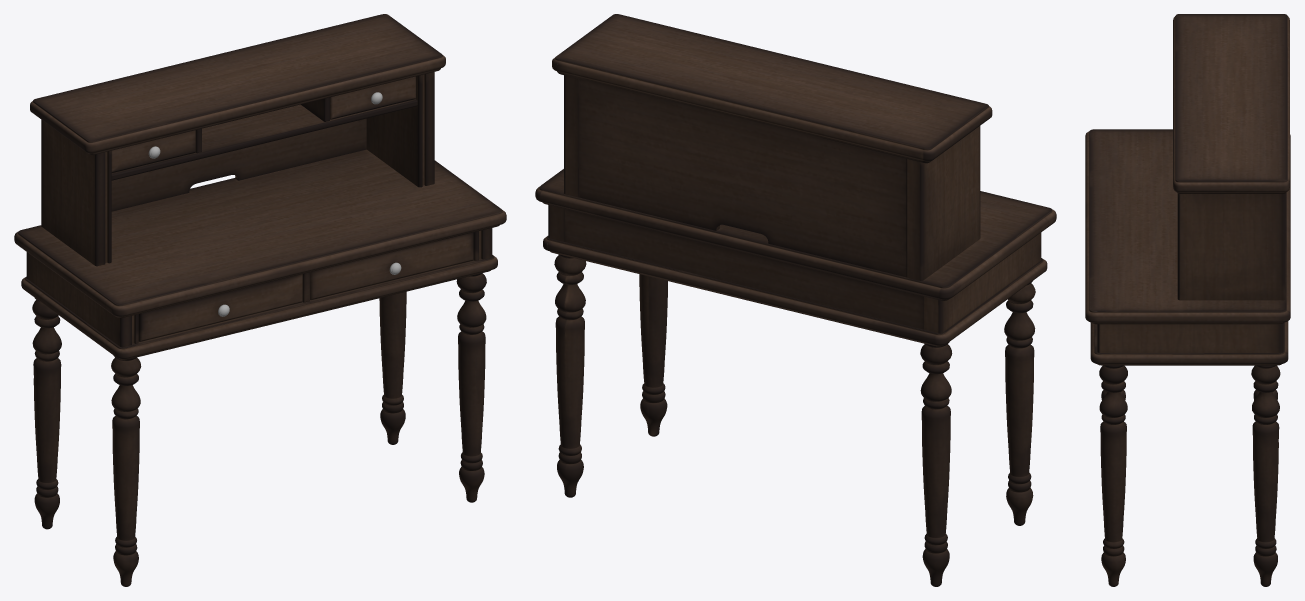
Rendered from desk_UV02.obj.
3 views of the same model, side by side, from view 1: azimuth 30°, elevation 25°; view 2: azimuth 150°, elevation 25°; view 3: azimuth 270°, elevation 25° (orthographic). The views are drawn at different scales.
Visible parts, largest first — view 1: desk_GEO; view 2: desk_GEO; view 3: desk_GEO.
Boxes of the visible parts, bbox=[...] form: desk_GEO: bbox=[14, 14, 506, 586]; desk_GEO: bbox=[535, 14, 1056, 586]; desk_GEO: bbox=[1085, 14, 1290, 586].
Bounding box in the file's own units: 96.87 × 99.07 × 45.36.
